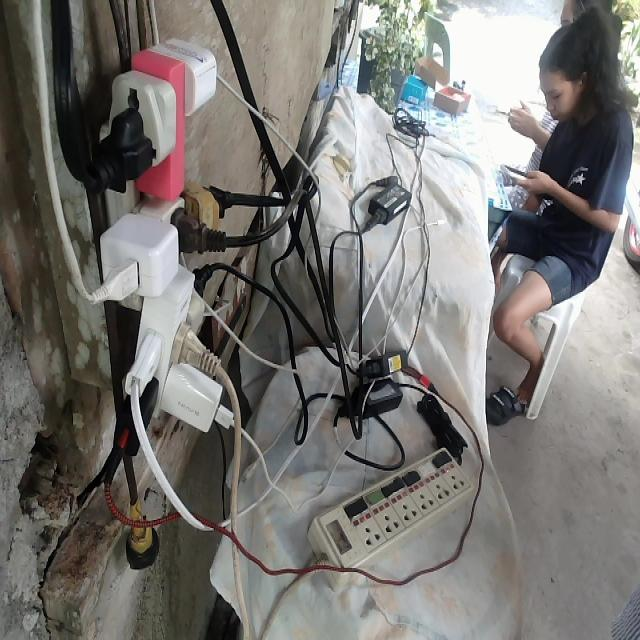-: (90, 42, 239, 466)
